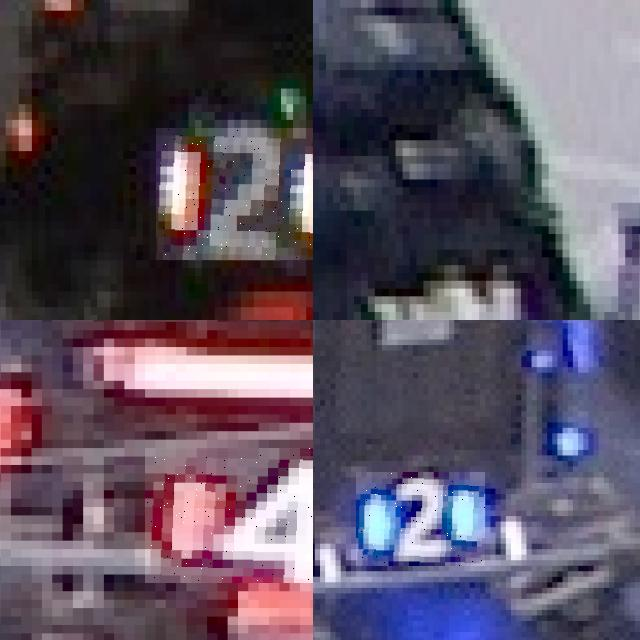B2: (356, 472, 485, 566)
R2: (155, 127, 313, 260)
R4: (145, 448, 313, 582)
